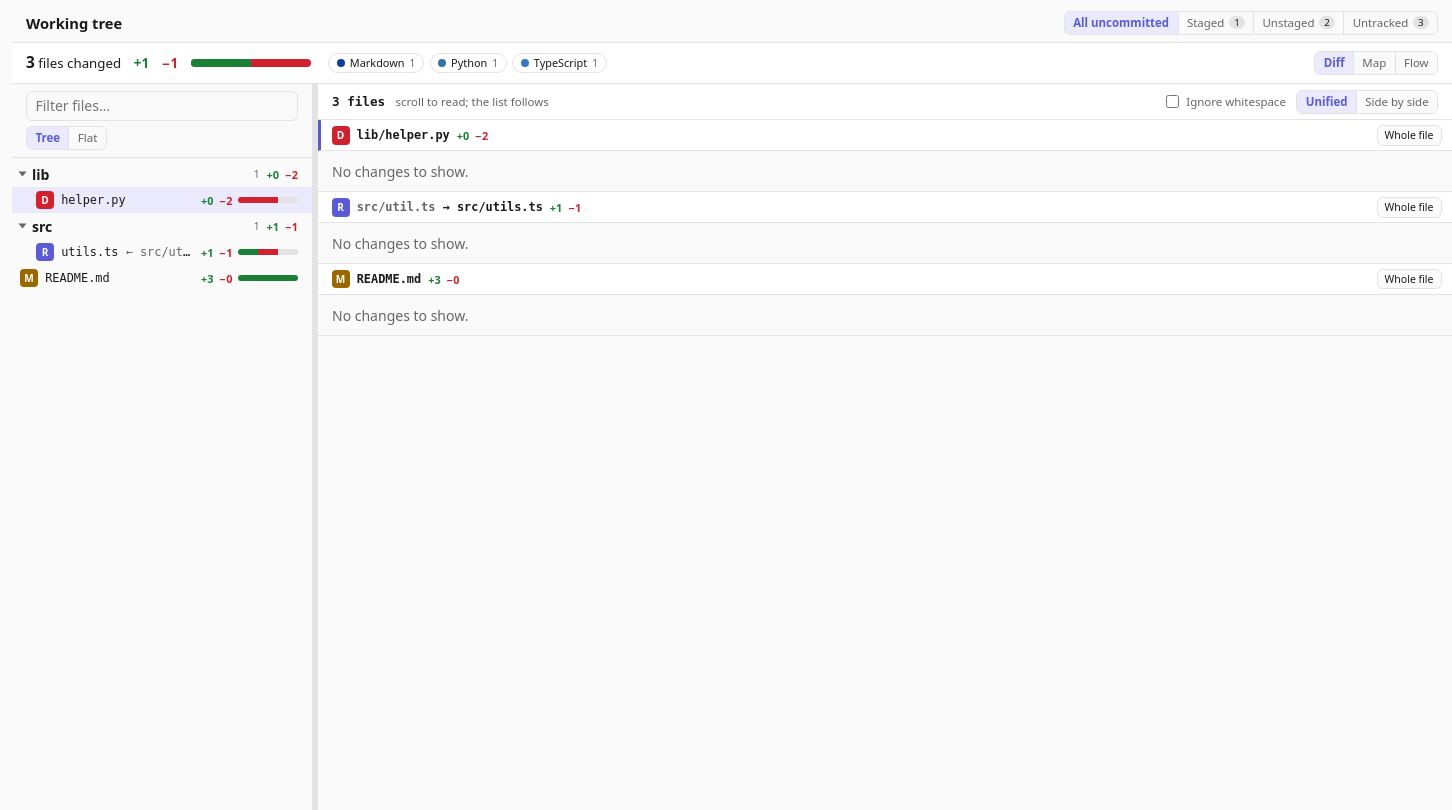
Test case: ChangesetView › offers worktree modes and refetches when switching
Expected: the heading "Working tree" is shown, [26,12,122,32]
Expected: the text with test id "stat-files" reads "3", [26,52,35,73]
Click the radio button labelled "Staged 1": (1215,22) [1178,12,1253,34]
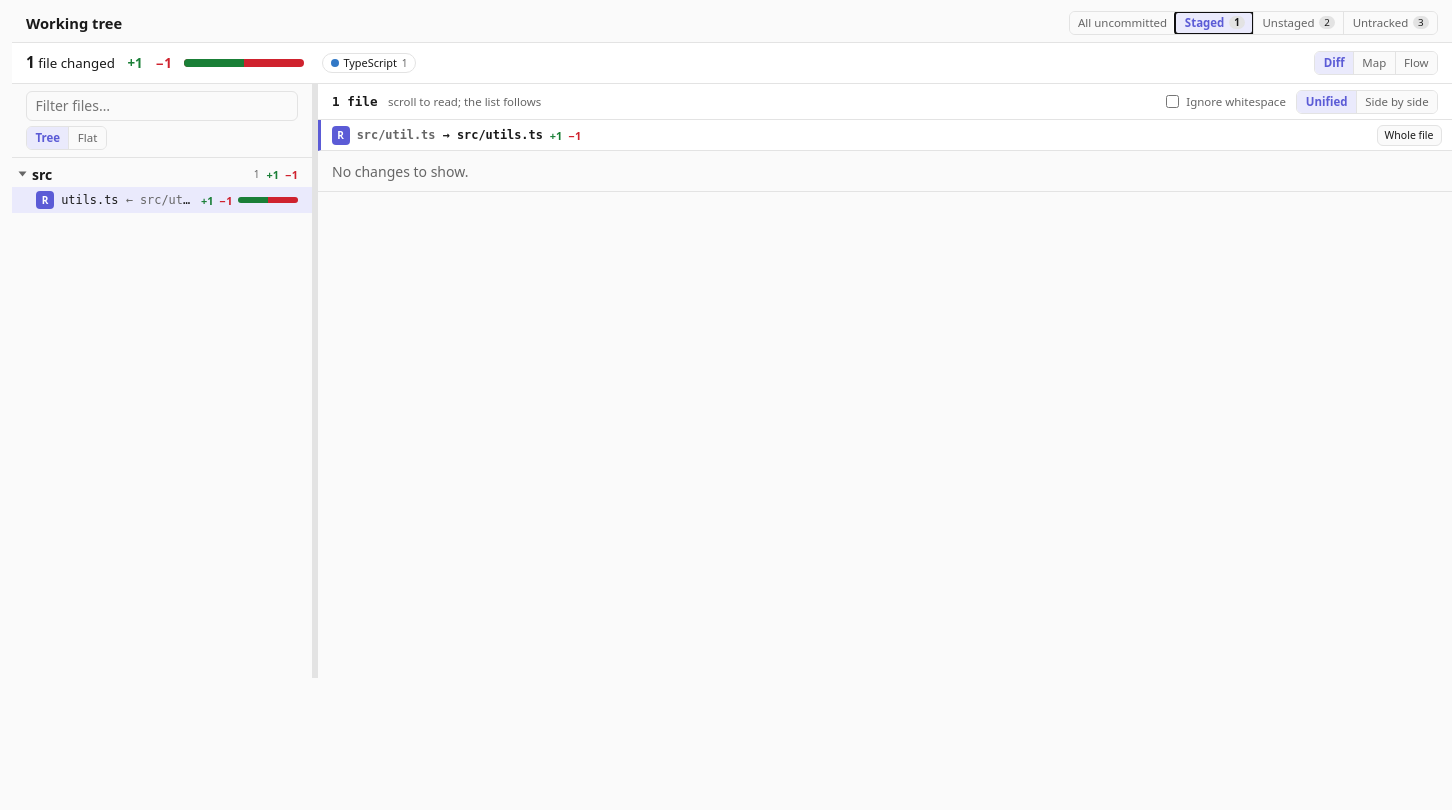
Result: the text with test id "stat-files" reads "1" at [26,52,35,73]
